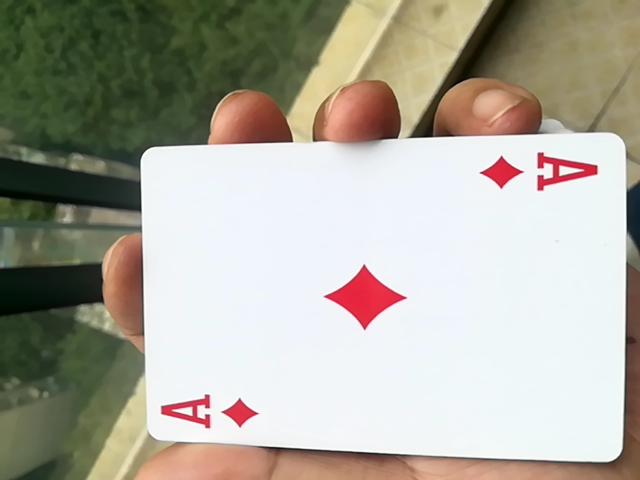fk a: (132, 139, 624, 475)
